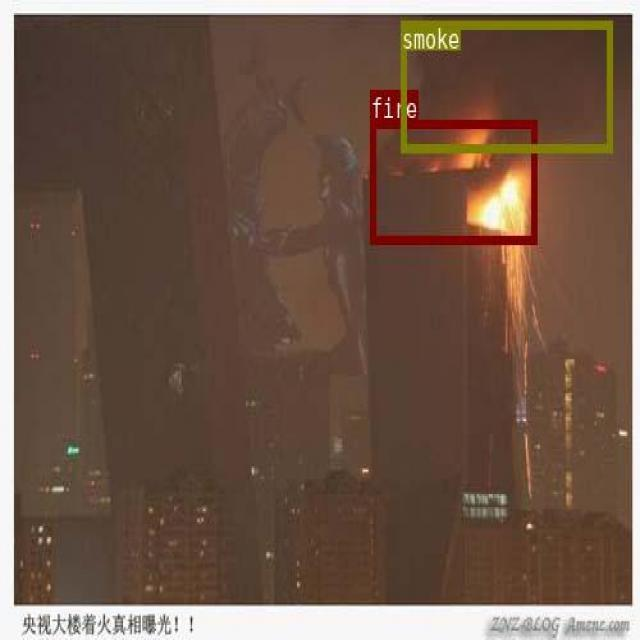fire: (370, 119, 536, 242)
smoke: (400, 20, 611, 150)
